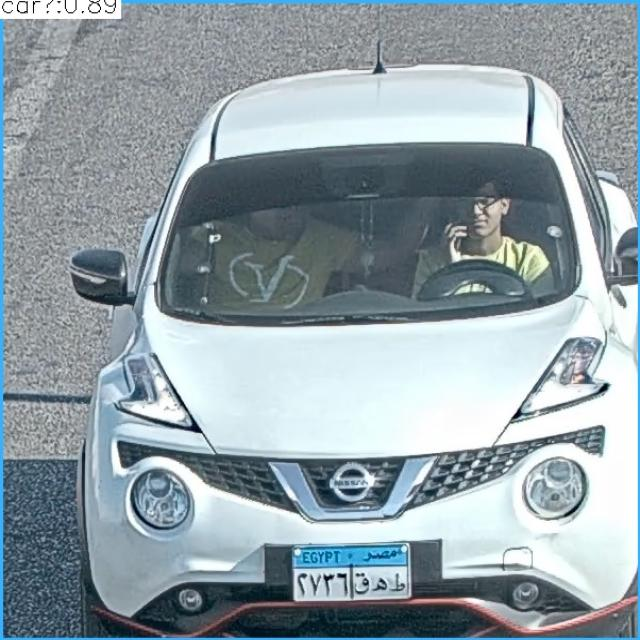windshield: (161, 140, 576, 330)
